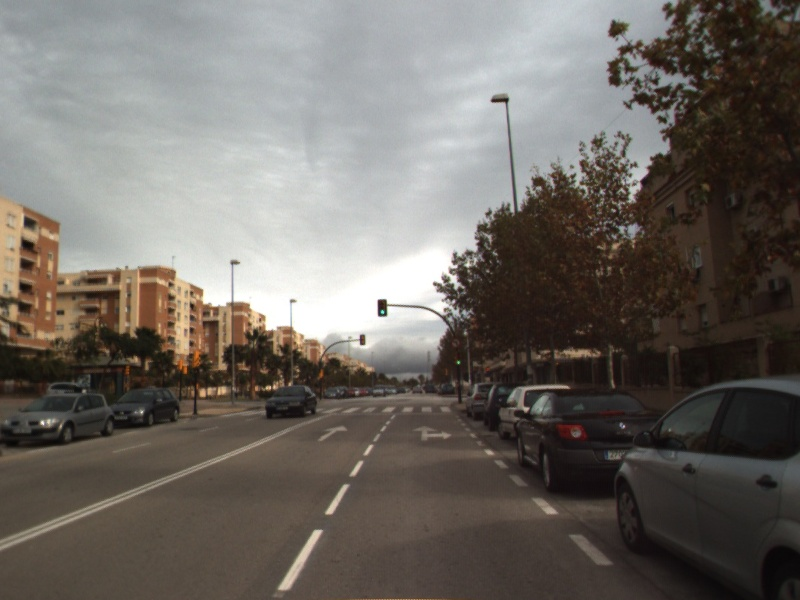STRAIGHT: (315, 423, 350, 443)
STRAIGHT_RIGHT: (410, 423, 454, 442)
